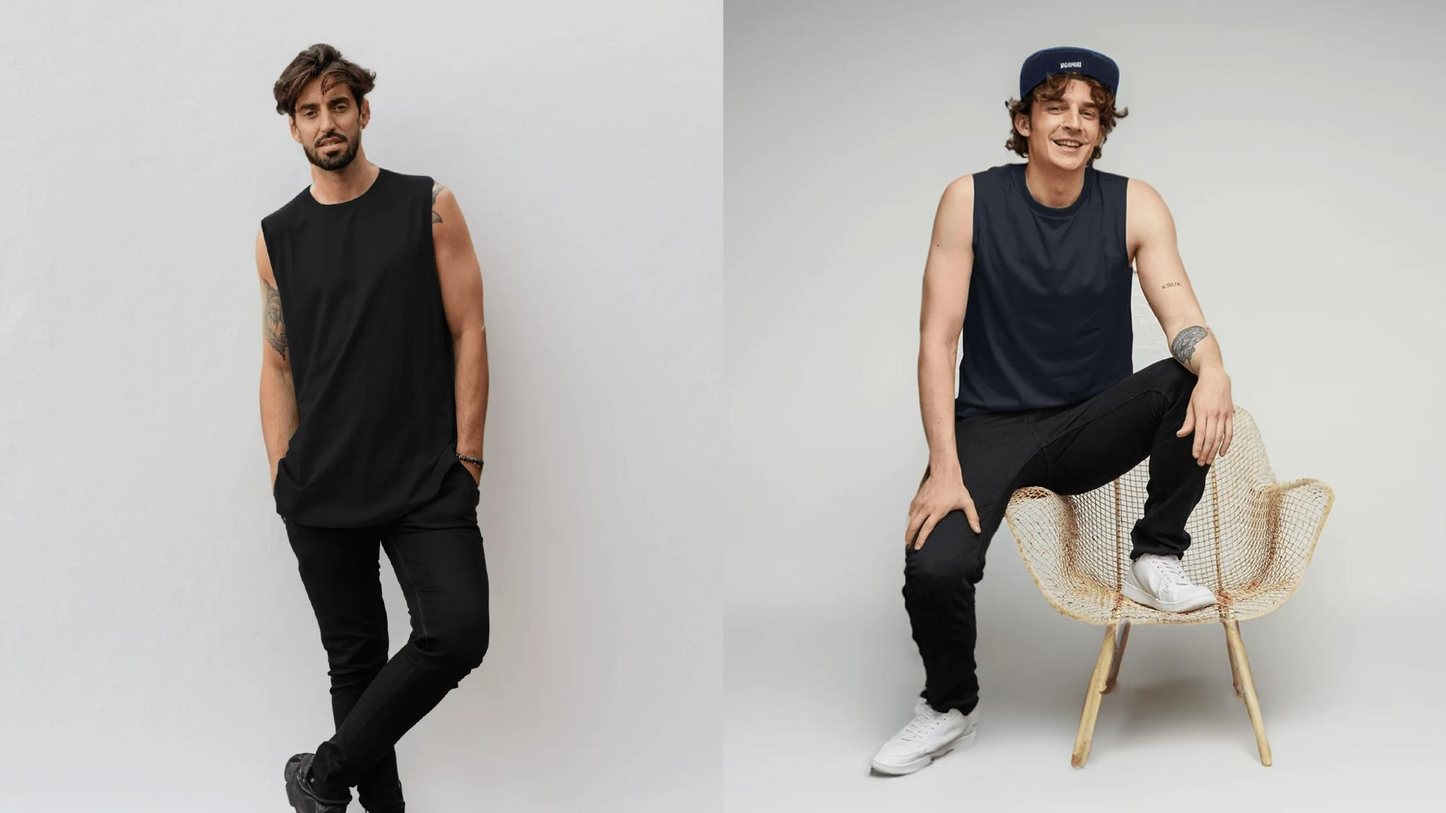trousers: (896, 358, 1224, 717), (266, 451, 493, 813)
vest: (257, 166, 483, 524), (957, 162, 1139, 408)
